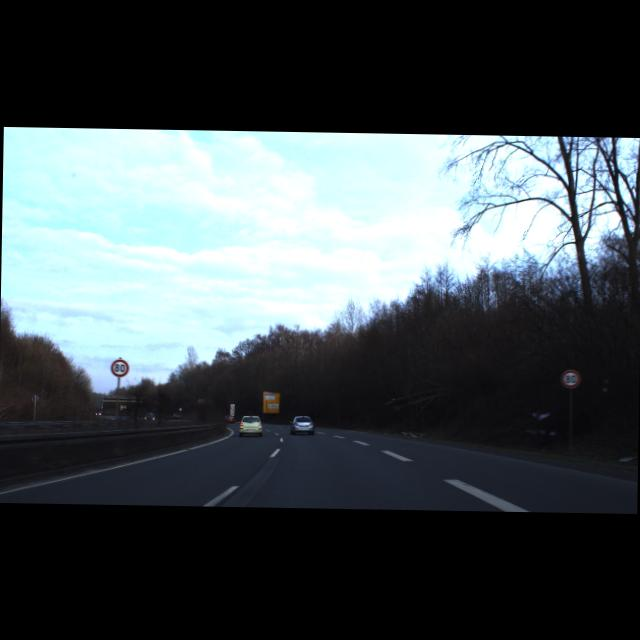prohibitory: (560, 369, 580, 388), (110, 359, 128, 376)
